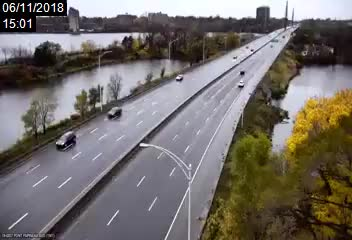personal_car: (55, 129, 78, 149), (105, 104, 122, 119), (174, 73, 184, 82), (236, 80, 245, 89), (239, 69, 245, 75)
